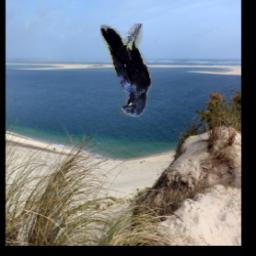Crow: (100, 25, 152, 118)
